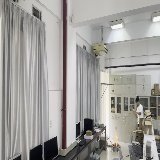fire: (113, 132, 118, 146)
